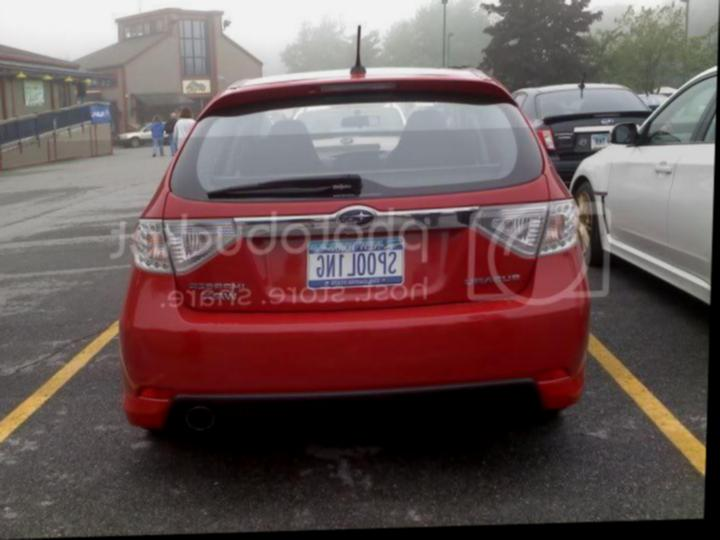License_Plate: (303, 232, 411, 293)
